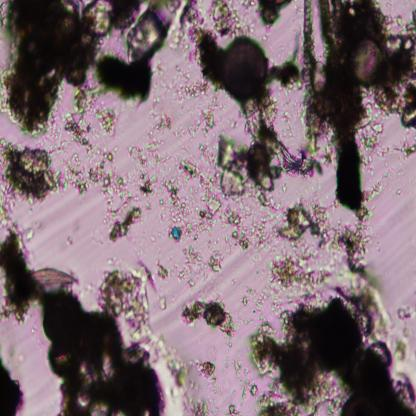Background material: (0, 222, 191, 414), (301, 0, 416, 213), (245, 294, 416, 415), (0, 0, 99, 138), (201, 99, 327, 198), (67, 139, 156, 211), (189, 193, 267, 251), (0, 136, 69, 199), (180, 2, 222, 90), (127, 0, 182, 62), (334, 209, 378, 284), (96, 50, 154, 103), (277, 199, 336, 249), (268, 254, 332, 296), (178, 299, 238, 337), (152, 68, 209, 104), (83, 0, 138, 35), (0, 356, 32, 416), (65, 88, 94, 148), (174, 244, 208, 290), (142, 256, 173, 306), (154, 177, 190, 220), (176, 110, 216, 144), (266, 53, 302, 90), (108, 206, 142, 243), (231, 356, 258, 399), (212, 0, 240, 36), (255, 0, 292, 26), (92, 103, 118, 134), (185, 393, 218, 416), (234, 278, 258, 308), (178, 156, 201, 182), (150, 110, 174, 132), (195, 356, 215, 381), (395, 308, 416, 329), (209, 248, 224, 274), (223, 397, 242, 416), (0, 200, 16, 222), (398, 137, 416, 156), (369, 185, 384, 204)
Diatom: (222, 34, 266, 99), (348, 38, 385, 86), (46, 341, 82, 379), (30, 266, 76, 289)
Fragment: (170, 226, 181, 242)
